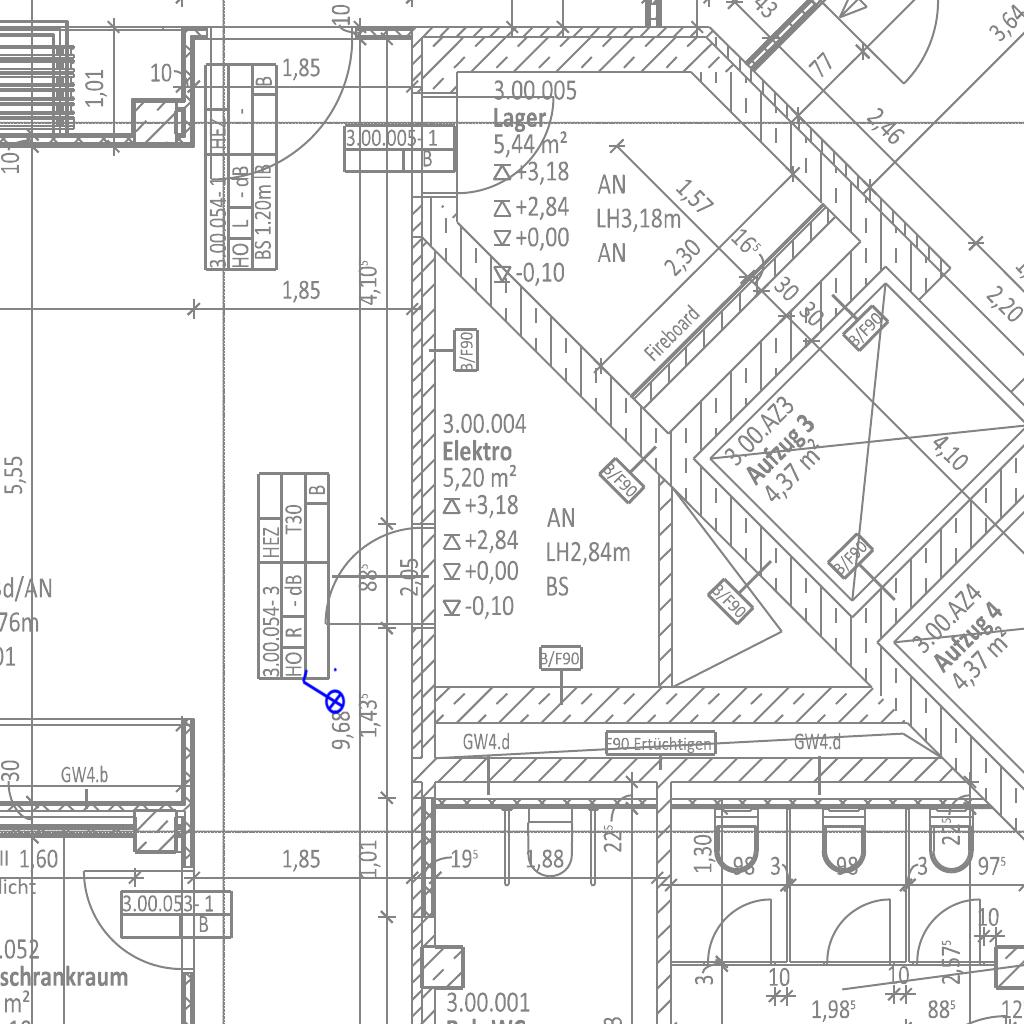Ausschalter_beleuchtet: (298, 665, 346, 721)
